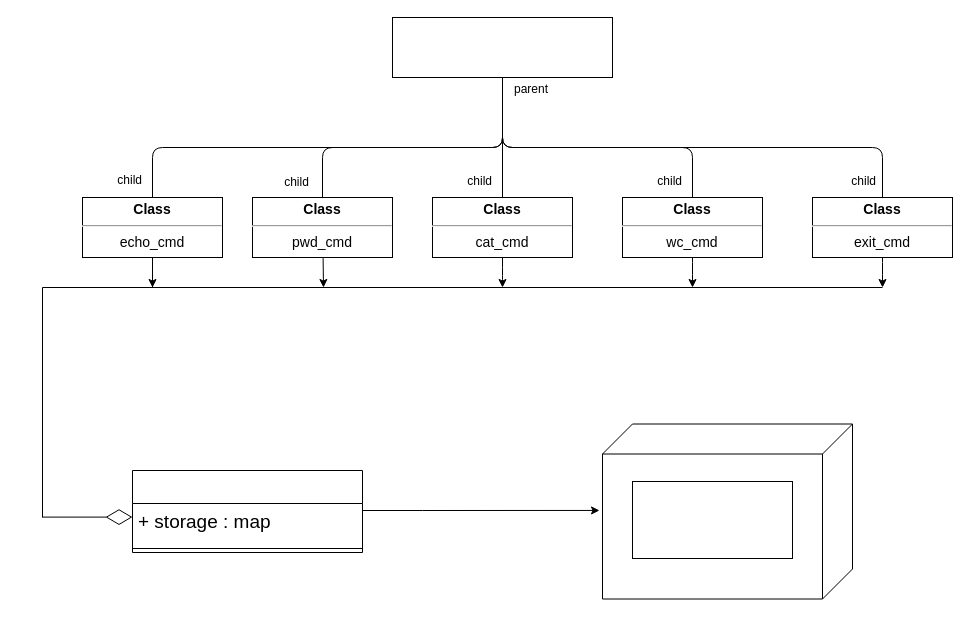
Image size: 970x617. Some labels were removed from this diagram. Each missing label, with the box of its shape:
Class terminal: (632, 480, 792, 558)
commands: (132, 470, 362, 552)
interface command: (392, 16, 612, 78)
